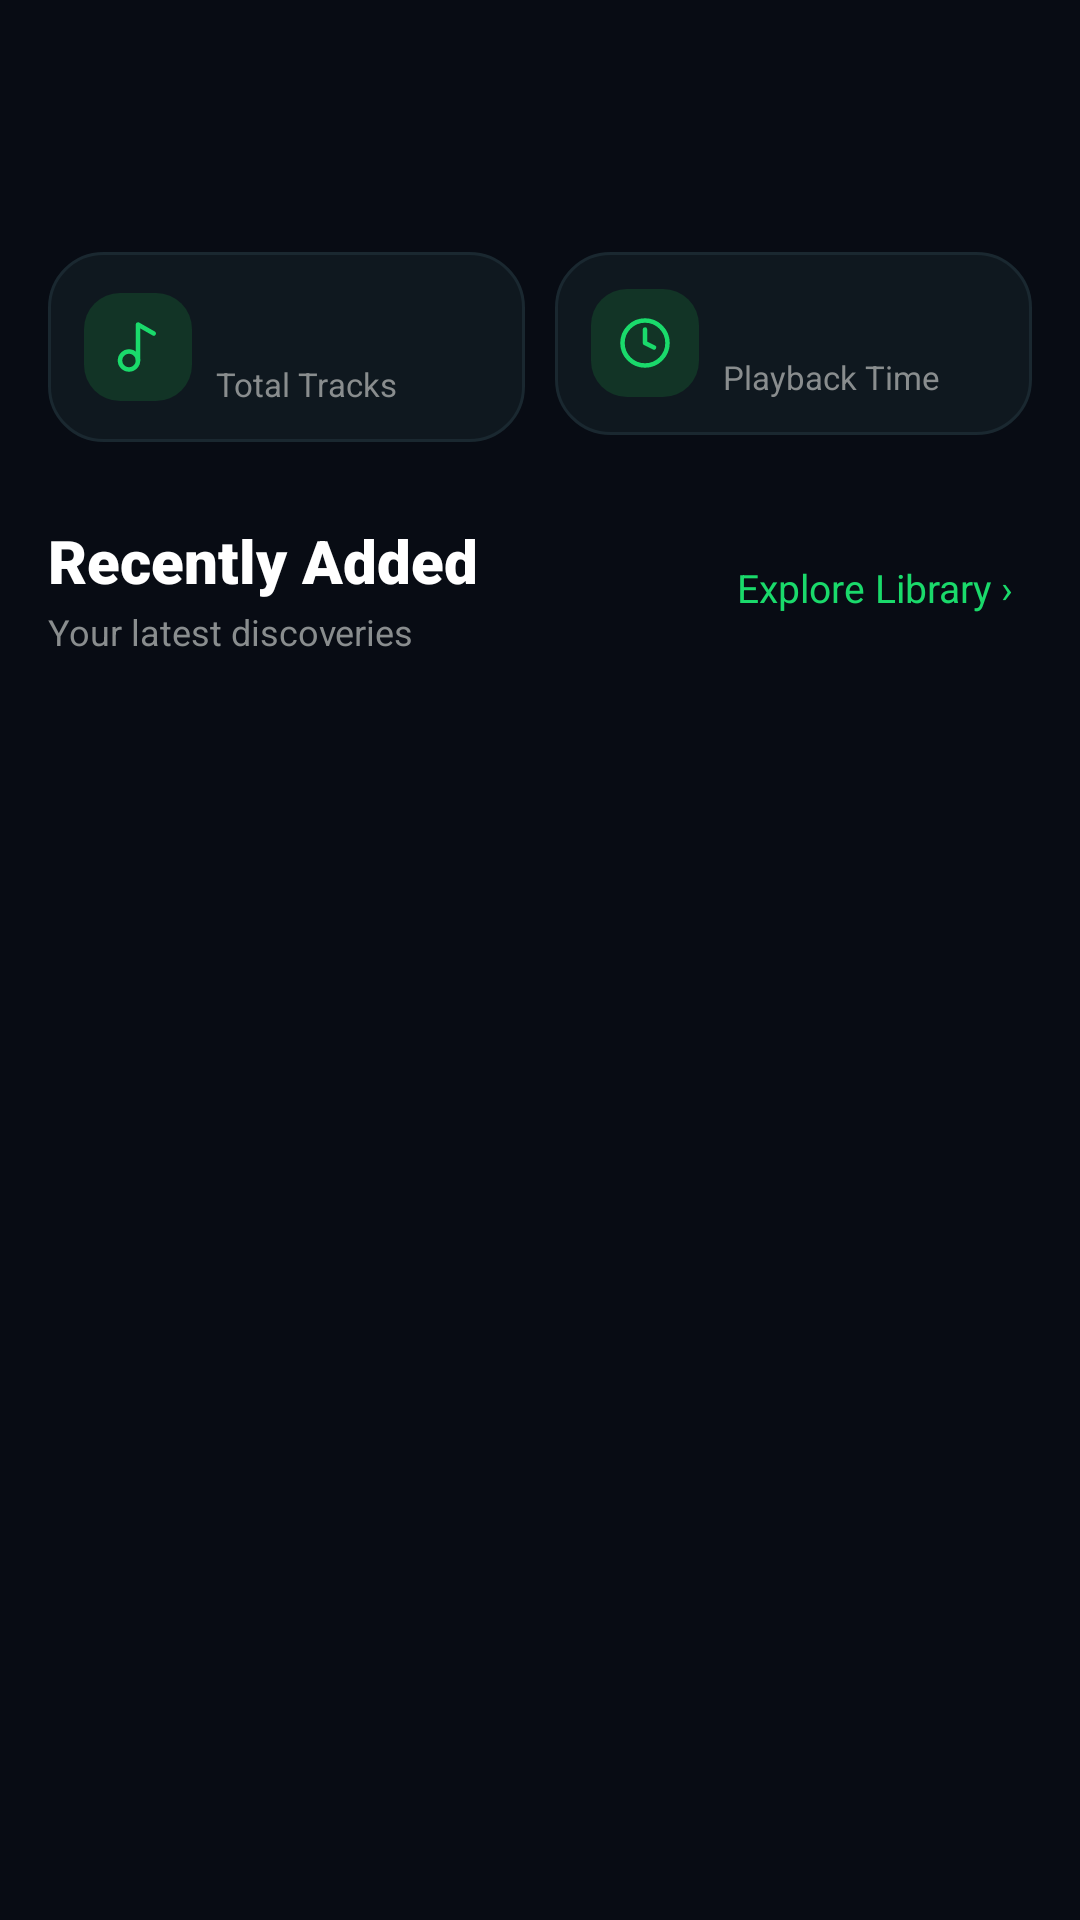

Screen size 1080×1920. Icon name, then its box in pixels as (x1, y1, x2, y2):
clock: (620, 318, 670, 368)
